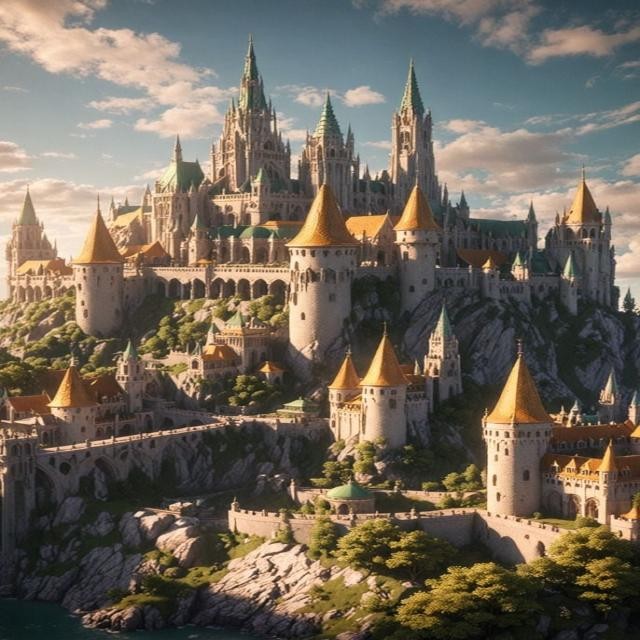castle: (4, 29, 630, 356)
